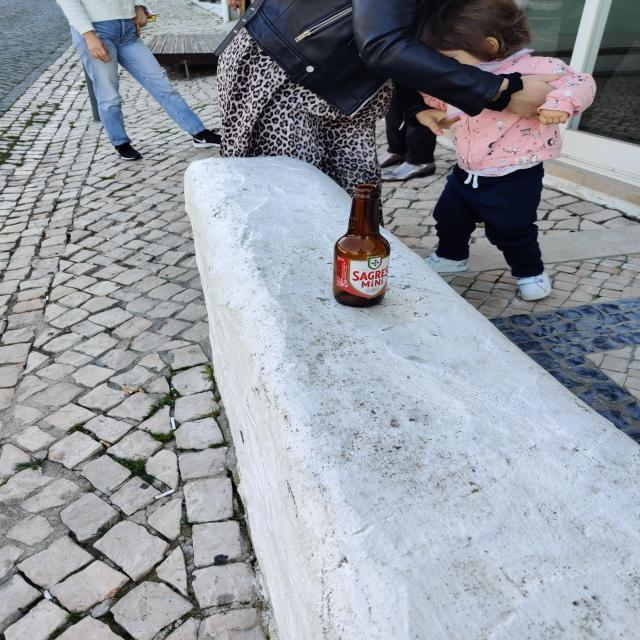litter: (329, 184, 391, 309)
